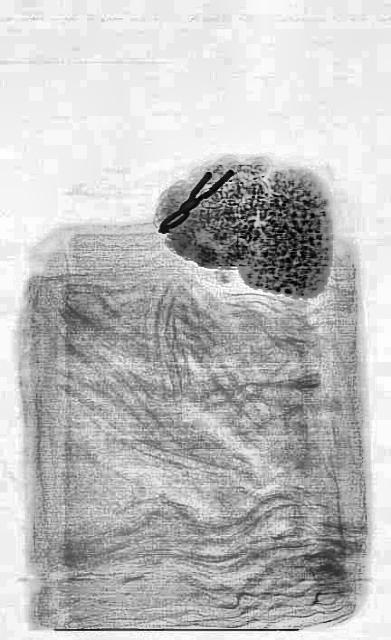Pliers: (155, 153, 231, 241)
